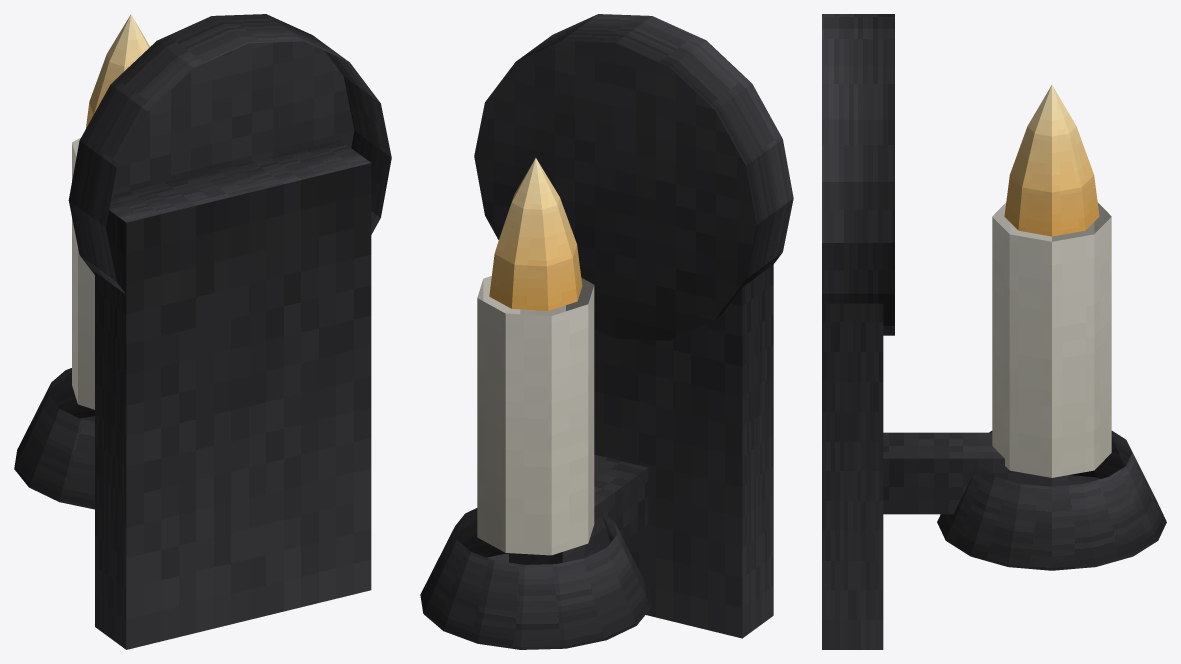
The model's file is sconce_colonial.obj.
3 renders of one model, left to right at view 1: azimuth 30°, elevation 25°; view 2: azimuth 150°, elevation 25°; view 3: azimuth 270°, elevation 25°, orthographic. The views are drawn at different scales.
Visible parts, largest first — view 1: sconce_colonial; view 2: sconce_colonial; view 3: sconce_colonial.
Part boxes in pixels (x1=…): sconce_colonial: x1=14, y1=14, x2=391, y2=649; sconce_colonial: x1=420, y1=14, x2=793, y2=649; sconce_colonial: x1=822, y1=14, x2=1166, y2=649.
Size of the model in its own units: 0.2625 by 0.5062 by 0.2812.
